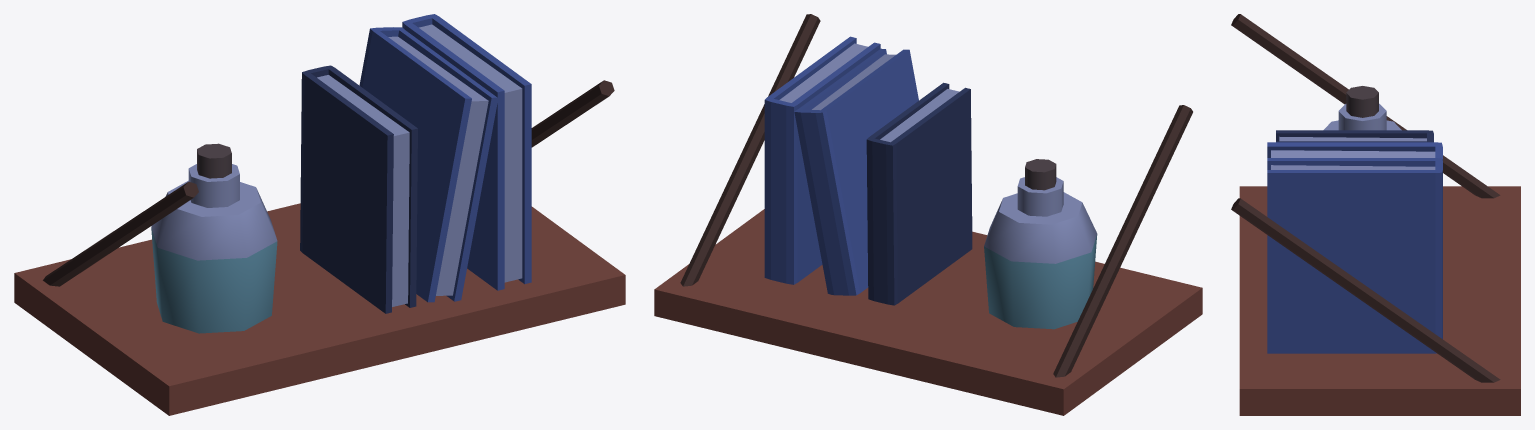
File: oldseamanroom4.fbx
3 views of the same model, side by side, from view 1: azimuth 30°, elevation 25°; view 2: azimuth 150°, elevation 25°; view 3: azimuth 270°, elevation 25° (orthographic). The views are drawn at different scales.
Visible parts, largest first — view 1: oldseamanroom4; view 2: oldseamanroom4; view 3: oldseamanroom4.
Boxes of the visible parts, box(x1,y1,x2,y2) form: oldseamanroom4: box(14, 14, 625, 415); oldseamanroom4: box(654, 14, 1202, 415); oldseamanroom4: box(1231, 14, 1520, 415).
Size of the model in its own units: 157 by 75.59 by 94.89.
